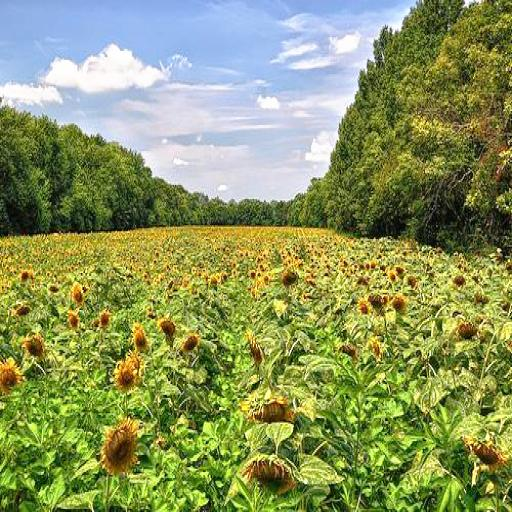sunflower: (244, 450, 294, 495), (100, 415, 138, 472), (240, 393, 295, 423), (113, 356, 143, 389), (177, 332, 202, 358), (22, 330, 47, 355)
